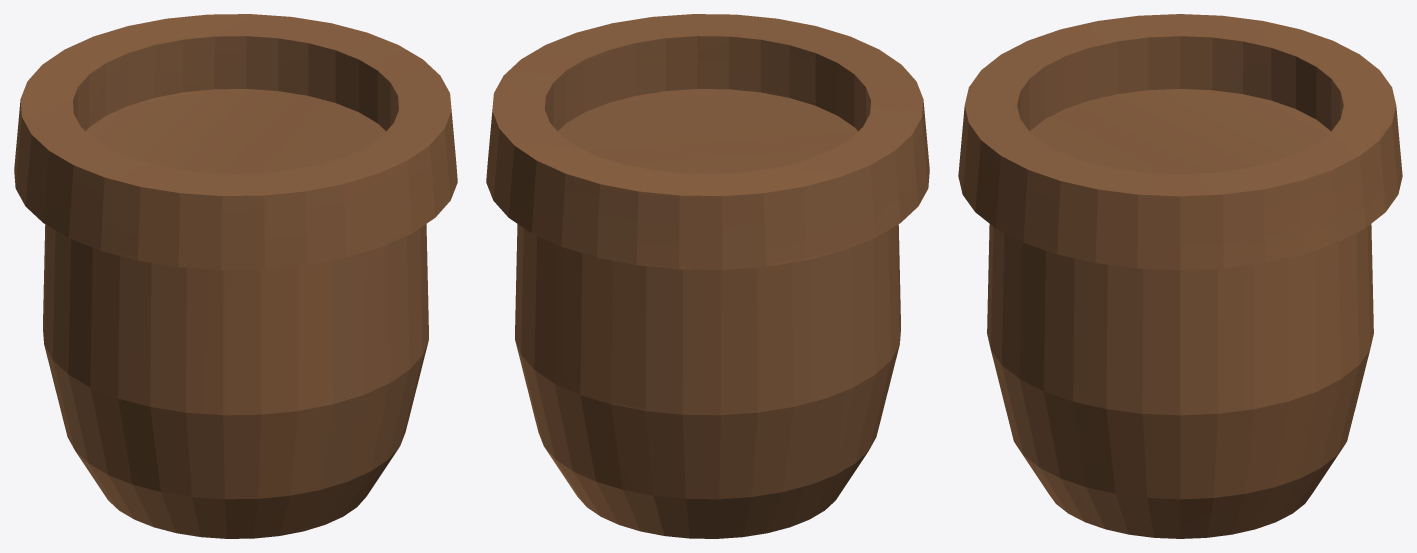
Rendered from Pot.fbx.
3 renders of one model, left to right at view 1: azimuth 30°, elevation 25°; view 2: azimuth 150°, elevation 25°; view 3: azimuth 270°, elevation 25°, orthographic.
Visible parts, largest first — view 1: Cylinder; view 2: Cylinder; view 3: Cylinder.
Boxes of the visible parts, x1,y1,x2,y2 form: Cylinder: (14, 14, 457, 538); Cylinder: (486, 14, 929, 538); Cylinder: (958, 14, 1402, 538).
Bounding box in the file's own units: 367 × 344 × 367.
